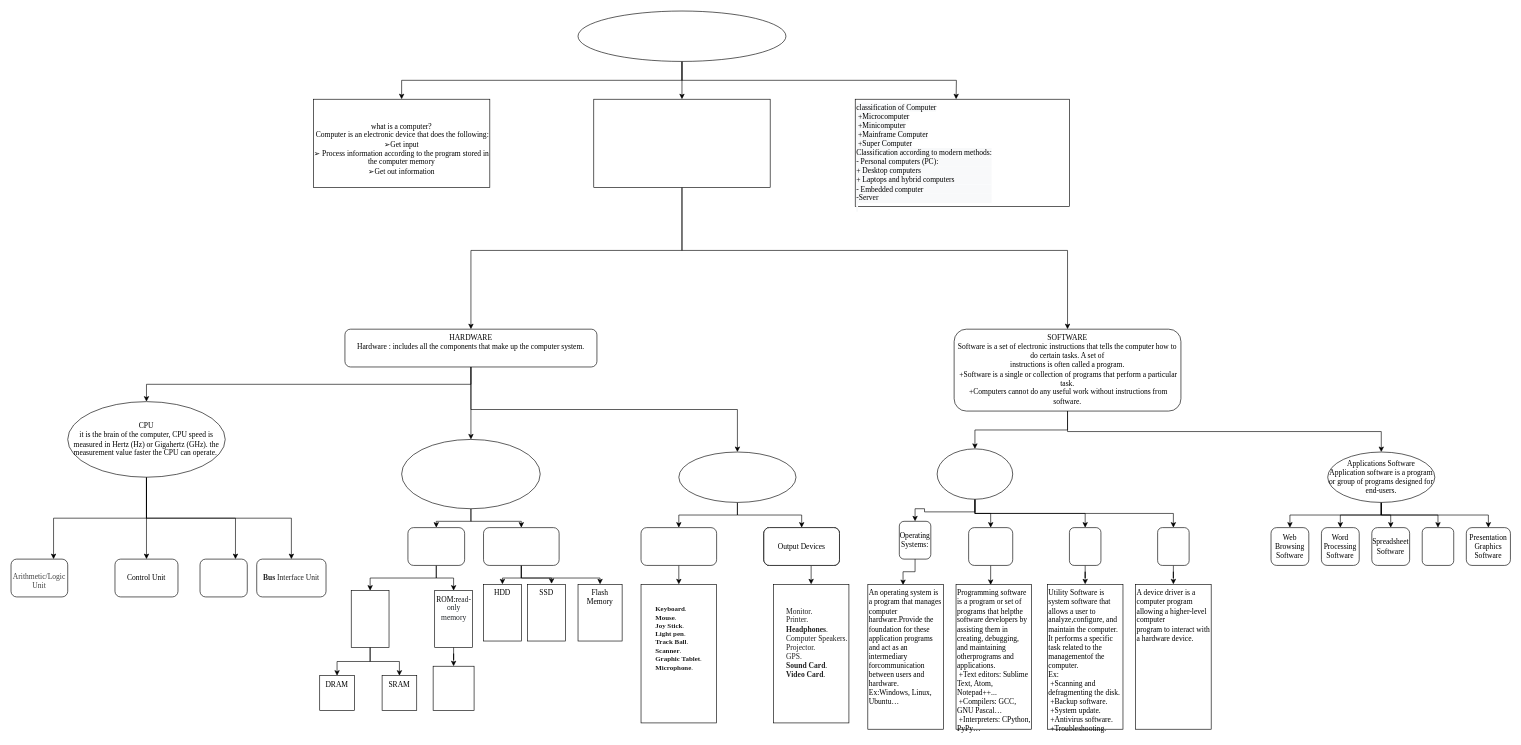
This 1521x745 diagram has some shape labels left out. Here are the shapes that lost their labels. From the top down, the centre of each, then its label:
At (x=681, y=35): "COMPUTER SYSTEM".
At (x=681, y=143): "Basic components of the computer".
At (x=470, y=474): "MEMORY Memory is where programs and data are stored".
At (x=737, y=476): "PERIPHERALS Exchange information inside and outside the computer".
At (x=974, y=473): "System Software:".
At (x=436, y=546): "Primary Memory".
At (x=521, y=546): "Secondary Memory".
At (x=678, y=546): "Input Devices".
At (x=990, y=546): "Programming Software:".
At (x=1085, y=546): "Utility Software".
At (x=1173, y=546): "Device Drivers".
At (x=1438, y=546): "Database Software".
At (x=223, y=577): "Register".
At (x=370, y=618): "RAM: random access memory".
At (x=453, y=688): "MROM PROM EPROM EEPROM".
